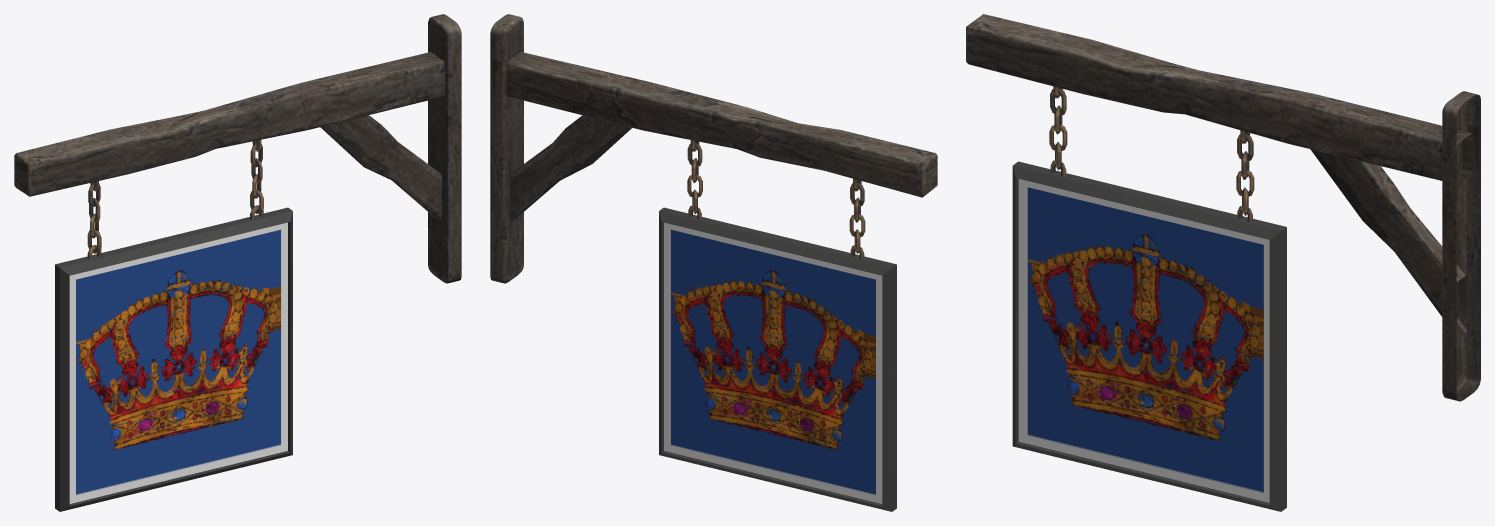
Rendered from Tavern_shield1.fbx.
3 views of the same model, side by side, from view 1: azimuth 30°, elevation 25°; view 2: azimuth 150°, elevation 25°; view 3: azimuth 330°, elevation 25° (orthographic). The views are drawn at different scales.
Parts seen in each view (by area): view 1: polySurface202; view 2: polySurface202; view 3: polySurface202.
Part boxes in pixels (x1,y1,x2,y2): polySurface202: [14, 14, 461, 511]; polySurface202: [490, 14, 937, 511]; polySurface202: [966, 14, 1480, 511].
Size of the model in its own units: 2.04 by 1.79 by 0.172.
